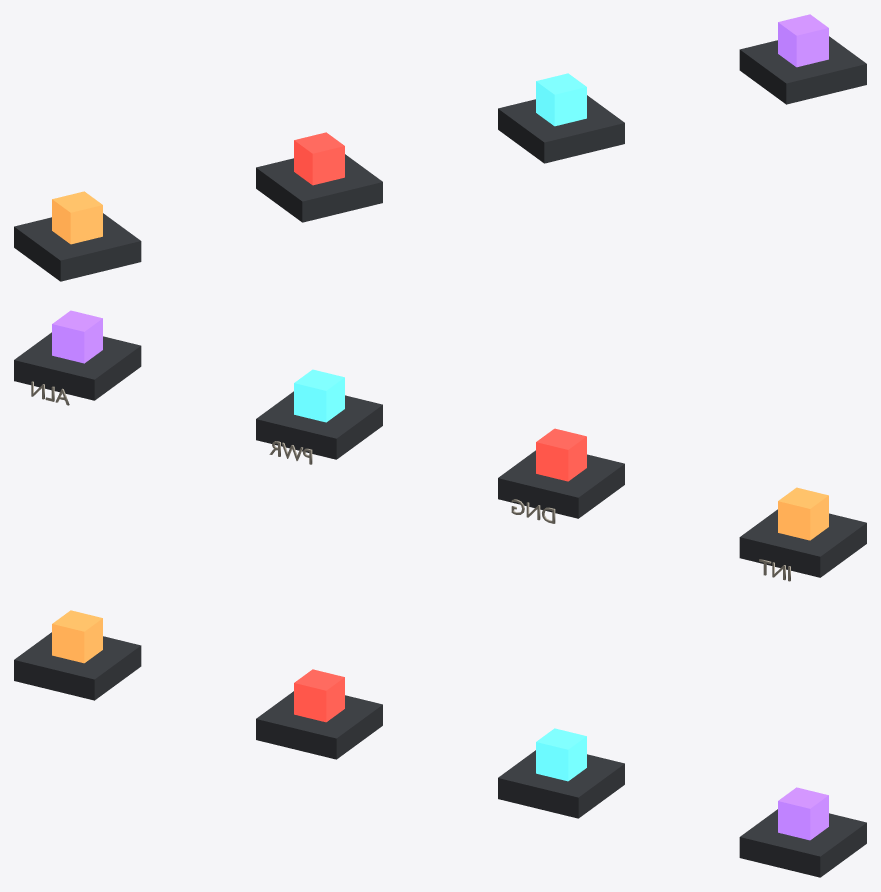
File: TC_LightingReference_V1.glb
The picture shows the model from 3 angles, top to bottom: view 1: azimuth 30°, elevation 25°; view 2: azimuth 150°, elevation 25°; view 3: azimuth 330°, elevation 25°; orthographic projection.
Parts seen in each view (by area): view 1: TC_LightingRef_Interaction_Plinth, TC_LightingRef_Alien_Plinth, TC_LightingRef_Danger_Plinth, TC_LightingRef_Powered_Plinth, TC_LightingRef_Interaction_Sample, TC_LightingRef_Alien_Sample, TC_LightingRef_Danger_Sample, TC_LightingRef_Powered_Sample; view 2: TC_LightingRef_Alien_Plinth, TC_LightingRef_Interaction_Plinth, TC_LightingRef_Danger_Plinth, TC_LightingRef_Powered_Plinth, TC_LightingRef_Powered_Sample, TC_LightingRef_Alien_Sample, TC_LightingRef_Interaction_Sample, TC_LightingRef_Danger_Sample; view 3: TC_LightingRef_Alien_Plinth, TC_LightingRef_Interaction_Plinth, TC_LightingRef_Danger_Plinth, TC_LightingRef_Powered_Plinth, TC_LightingRef_Interaction_Sample, TC_LightingRef_Alien_Sample, TC_LightingRef_Powered_Sample, TC_LightingRef_Danger_Sample.
Part boxes in pixels (x1,y1,x2,y2): TC_LightingRef_Interaction_Plinth: (14,213,141,281); TC_LightingRef_Alien_Plinth: (739,36,866,104); TC_LightingRef_Danger_Plinth: (256,154,382,222); TC_LightingRef_Powered_Plinth: (498,95,624,163); TC_LightingRef_Interaction_Sample: (52,191,102,244); TC_LightingRef_Alien_Sample: (778,14,828,67); TC_LightingRef_Danger_Sample: (294,132,344,185); TC_LightingRef_Powered_Sample: (536,73,586,126); TC_LightingRef_Alien_Plinth: (14,332,141,400); TC_LightingRef_Interaction_Plinth: (739,509,866,577); TC_LightingRef_Danger_Plinth: (498,450,624,518); TC_LightingRef_Powered_Plinth: (256,391,382,459); TC_LightingRef_Powered_Sample: (294,369,344,422); TC_LightingRef_Alien_Sample: (52,310,102,363); TC_LightingRef_Interaction_Sample: (778,487,828,540); TC_LightingRef_Danger_Sample: (536,428,586,481); TC_LightingRef_Alien_Plinth: (739,809,866,877); TC_LightingRef_Interaction_Plinth: (14,632,141,700); TC_LightingRef_Danger_Plinth: (256,691,382,759); TC_LightingRef_Powered_Plinth: (498,750,624,818); TC_LightingRef_Interaction_Sample: (52,610,102,663); TC_LightingRef_Alien_Sample: (778,787,828,840); TC_LightingRef_Powered_Sample: (536,728,586,781); TC_LightingRef_Danger_Sample: (294,669,344,722).
Size of the model in its own units: 4 by 0.2799 by 0.444.
